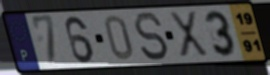0: (102, 13, 136, 63)
3: (203, 9, 238, 59)
6: (64, 14, 96, 65)
7: (29, 13, 58, 69)
S: (132, 11, 172, 63)
X: (167, 10, 211, 59)
